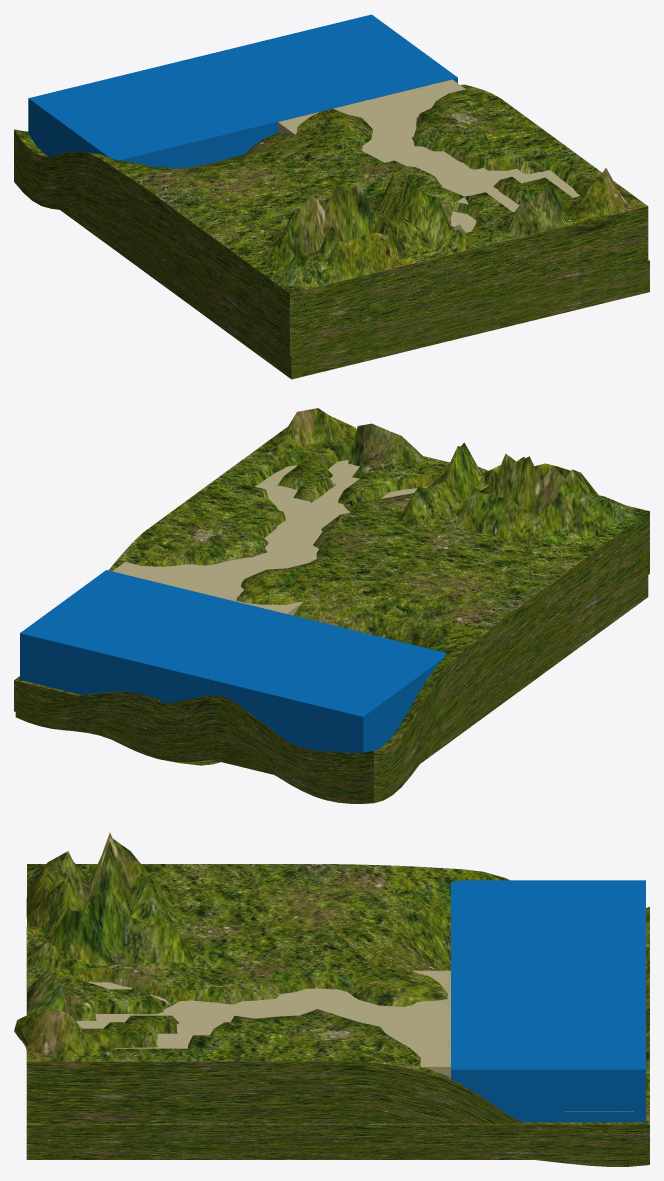
File: 鸟爪形三角洲.gltf
3 renders of one model, top to bottom at view 1: azimuth 30°, elevation 25°; view 2: azimuth 150°, elevation 25°; view 3: azimuth 270°, elevation 25°, orthographic. The views are drawn at different scales.
Visible parts, largest first — view 1: node_Box002_-1096, node_Box005_-1100, node_Box003_-1098, node_Box006_-1102; view 2: node_Box002_-1096, node_Box005_-1100, node_Box006_-1102, node_Box003_-1098; view 3: node_Box002_-1096, node_Box005_-1100, node_Box003_-1098, node_Box006_-1102.
Boxes of the visible parts, x1,y1,x2,y2 form: node_Box002_-1096: [14, 84, 648, 355]; node_Box005_-1100: [28, 14, 457, 168]; node_Box003_-1098: [60, 210, 649, 379]; node_Box006_-1102: [278, 79, 580, 232]; node_Box002_-1096: [15, 408, 649, 803]; node_Box005_-1100: [20, 570, 446, 753]; node_Box006_-1102: [112, 460, 426, 615]; node_Box003_-1098: [14, 575, 648, 774]; node_Box002_-1096: [14, 832, 649, 1166]; node_Box005_-1100: [451, 880, 645, 1122]; node_Box003_-1098: [26, 927, 649, 1159]; node_Box006_-1102: [76, 970, 450, 1077].
Bounding box in the file's own units: 1.53 × 0.7374 × 2.07.
